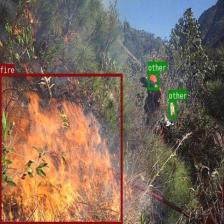fire: (0, 73, 122, 224)
